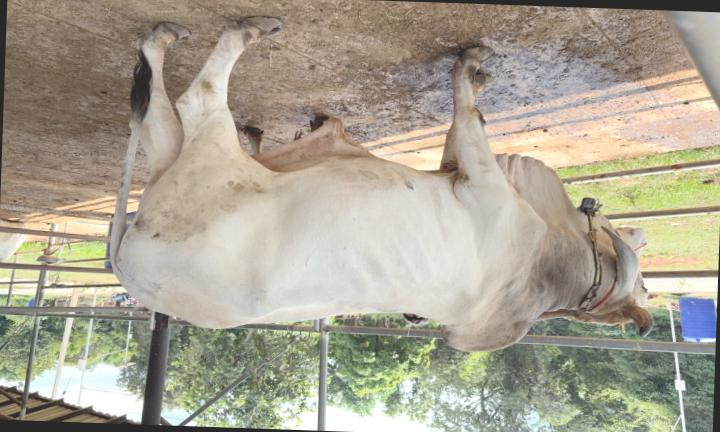Brahman: (111, 17, 653, 351)
